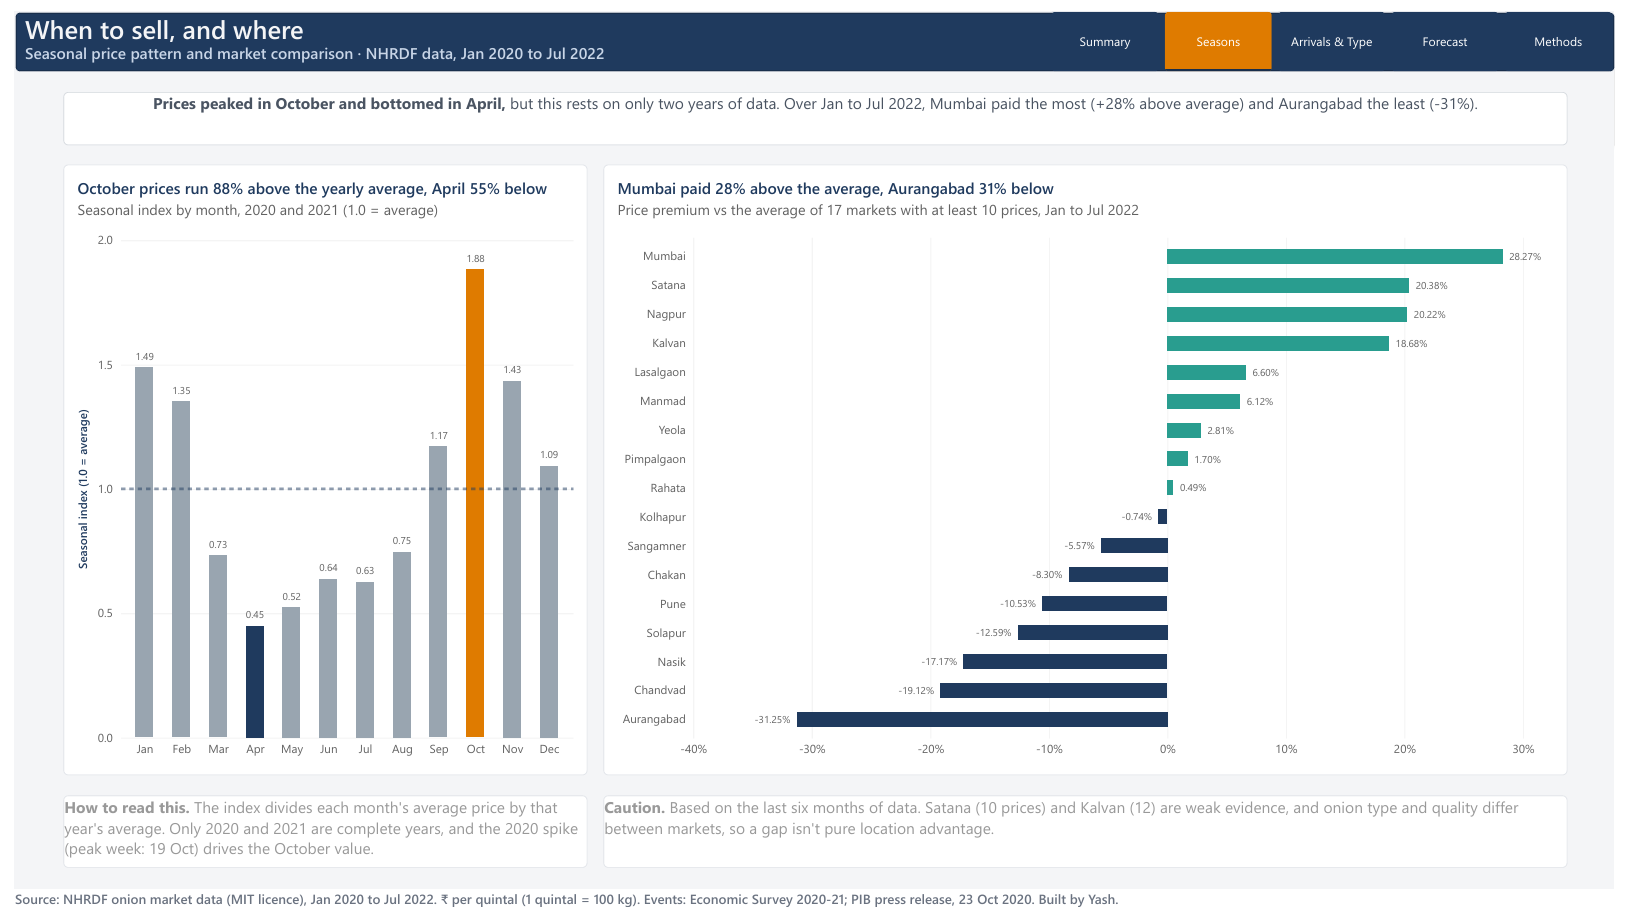

The dashboard page shown, as its layout file describes it:
{"tool":"powerbi","page":{"name":"Seasons","canvas":[1920,1080],"ordinal":1},"visuals":[{"type":"clusteredColumnChart","title":"October prices run 88% above the yearly average, April 55% below","fields":{"Category":["seasonal_index.Month"],"Y":["Avg(seasonal_index.seasonal_index)"]},"box":[57.6,183.1,629.7,732.6],"z":0},{"type":"clusteredBarChart","title":"Mumbai paid 28% above the average, Aurangabad 31% below","fields":{"Category":["market_spread.market"],"Y":["Measures (2).Market Premium %"]},"box":[706.4,183.1,1156.4,732.6],"z":1000},{"type":"shape","box":[0,0,1920.4,71.5],"z":2000},{"type":"textbox","title":"Source: NHRDF onion market data (MIT licence), Jan 2020 to Jul 2022. ₹ per quintal (1 quintal = 100 kg). Events: Economic Survey 2020-21; PIB press release, 23 Oct 2020. Built by Yash.","box":[0,1053.5,1920.4,26.2],"z":3000},{"type":"textbox","title":"When to sell, and where","box":[0,0,1203.2,36],"z":4000},{"type":"textbox","title":"Seasonal price pattern and market comparison · NHRDF data, Jan 2020 to Jul 2022","box":[0,36.6,1034.3,34.9],"z":5000},{"type":"pageNavigator","box":[1243.6,0,676.4,71.3],"z":6000},{"type":"textbox","title":"Prices peaked in October and bottomed in April, but this rests on only two years of data. Over Jan to Jul 2022, Mumbai paid the most (+28% above average) and Aurangabad the least (-31%).","box":[57.6,95.9,1805.2,64.5],"z":7000},{"type":"textbox","box":[57.6,940.1,629.7,87.2],"z":8000},{"type":"textbox","box":[706.4,940.1,1156.4,87.2],"z":9000}]}

Visuals, with their boxes in screenshot pixels (x1, y1, x2, y2), scaled from the page's 1920x1080 canvas onto the 1632x920 screenshot:
"October prices run 88% above the yearly average, April 55% below" clusteredColumnChart: bbox=[49, 156, 584, 780]
"Mumbai paid 28% above the average, Aurangabad 31% below" clusteredBarChart: bbox=[600, 156, 1583, 780]
shape: bbox=[0, 0, 1631, 61]
"Source: NHRDF onion market data (MIT licence), Jan 2020 to Jul 2022. ₹ per quintal (1 quintal = 100 kg). Events: Economic Survey 2020-21; PIB press release, 23 Oct 2020. Built by Yash." textbox: bbox=[0, 897, 1631, 919]
"When to sell, and where" textbox: bbox=[0, 0, 1023, 31]
"Seasonal price pattern and market comparison · NHRDF data, Jan 2020 to Jul 2022" textbox: bbox=[0, 31, 879, 61]
pageNavigator: bbox=[1057, 0, 1631, 61]
"Prices peaked in October and bottomed in April, but this rests on only two years of data. Over Jan to Jul 2022, Mumbai paid the most (+28% above average) and Aurangabad the least (-31%)." textbox: bbox=[49, 82, 1583, 137]
textbox: bbox=[49, 801, 584, 875]
textbox: bbox=[600, 801, 1583, 875]
